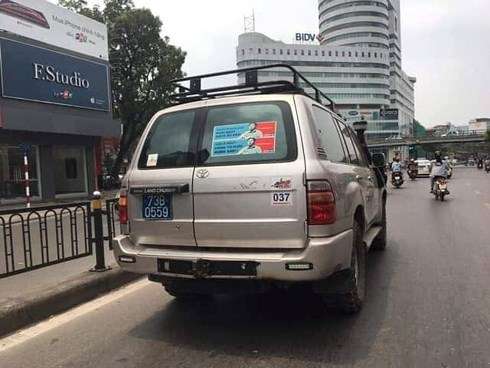plate: (139, 191, 173, 221)
